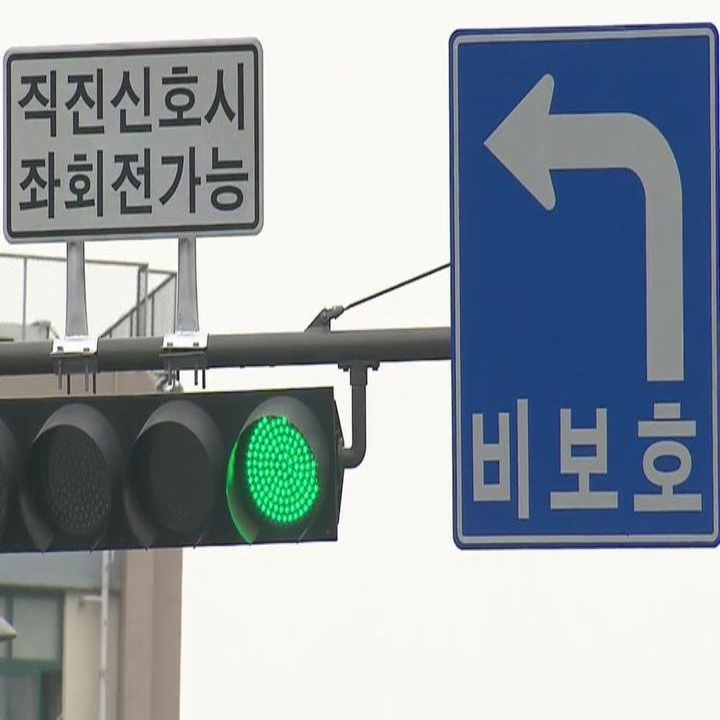left: (478, 65, 702, 391)
